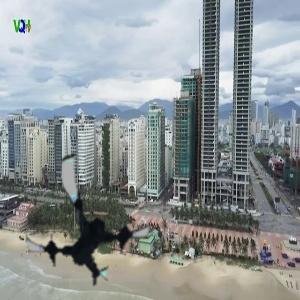drone: (19, 152, 159, 292)
